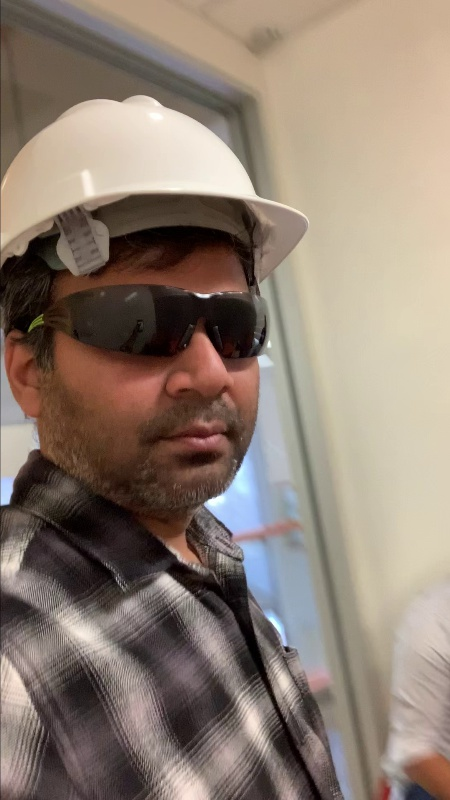glasses: (47, 277, 277, 370)
helmet: (2, 90, 310, 272)
